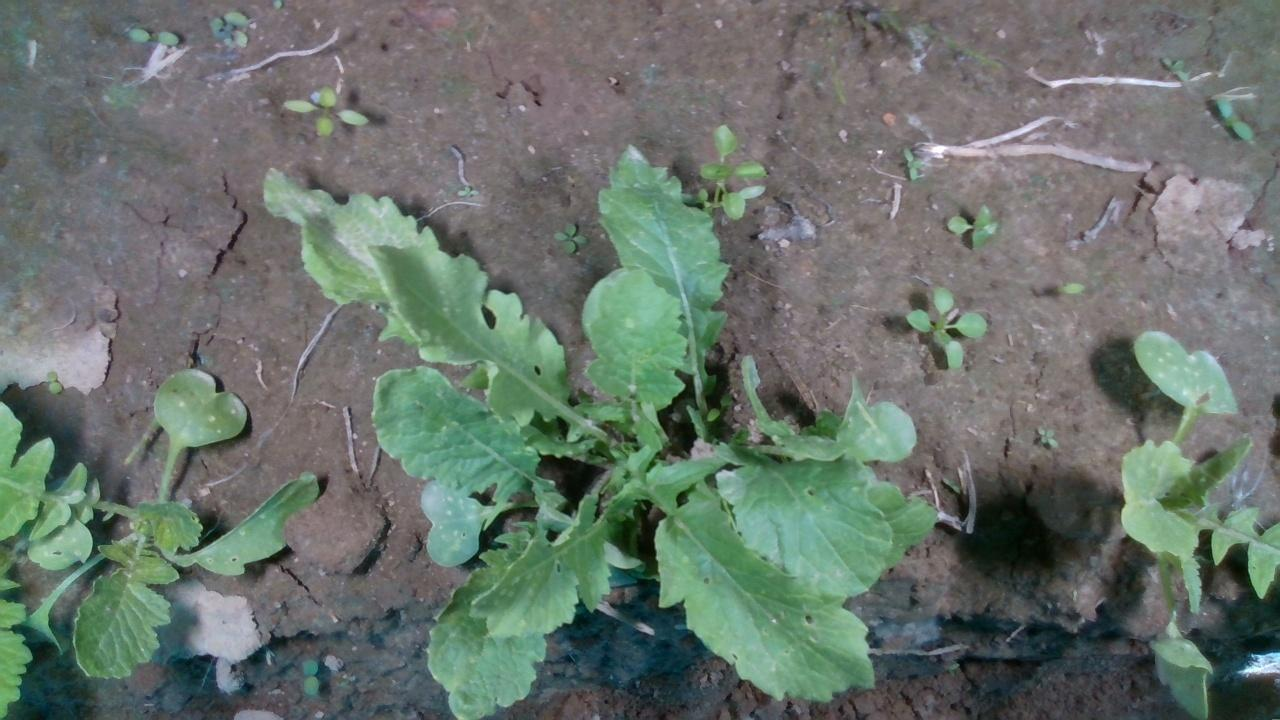weed: (275, 80, 371, 137), (943, 199, 998, 254), (1213, 96, 1254, 142), (551, 220, 589, 256), (121, 26, 180, 47), (1158, 53, 1190, 85), (899, 146, 925, 183), (299, 657, 319, 697), (1035, 425, 1059, 449), (44, 369, 63, 395), (453, 183, 478, 198)
